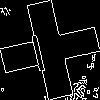I: (25, 25, 49, 73)
